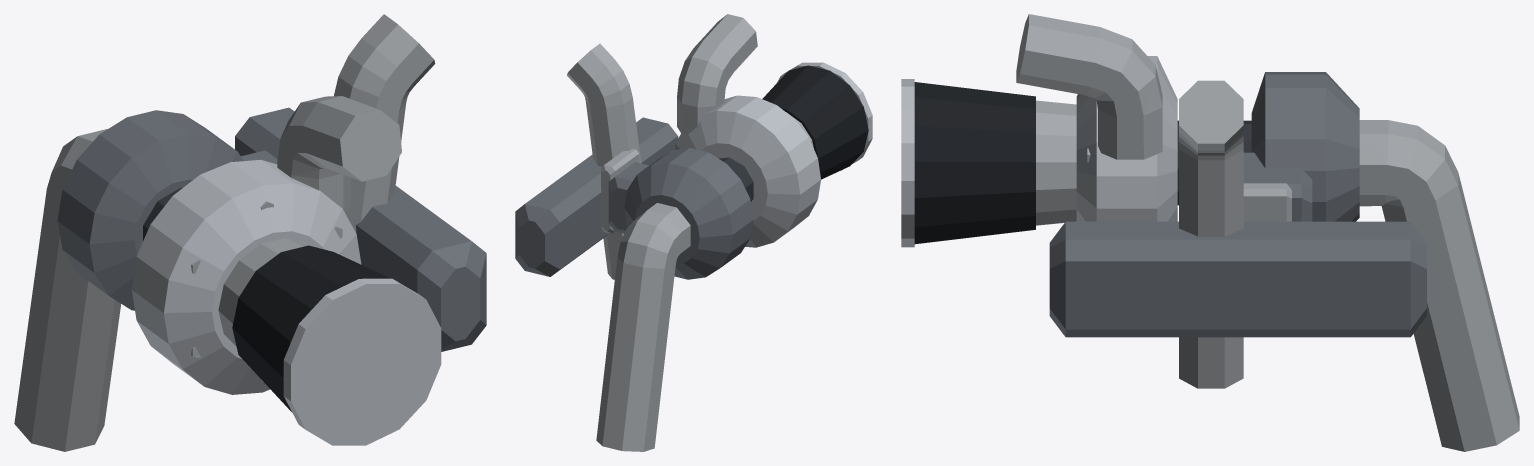
The model's file is hana_roadster_turbo_kit.glb.
3 renders of one model, left to right at view 1: azimuth 30°, elevation 25°; view 2: azimuth 150°, elevation 25°; view 3: azimuth 270°, elevation 25°, orthographic. The views are drawn at different scales.
Visible parts, largest first — view 1: model; view 2: model; view 3: model.
Boxes of the visible parts, box(x1,y1,x2,y2) form: model: box(14, 14, 486, 451); model: box(515, 14, 872, 451); model: box(901, 14, 1519, 451).
Size of the model in its own units: 0.263 by 0.3701 by 0.4588.
2 materials, 1 textured.
